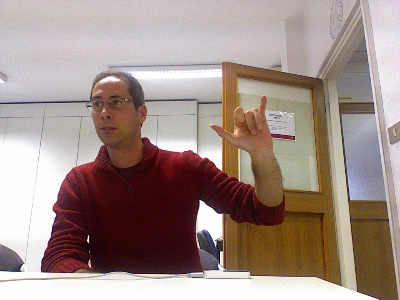六六六: (207, 94, 273, 153)
